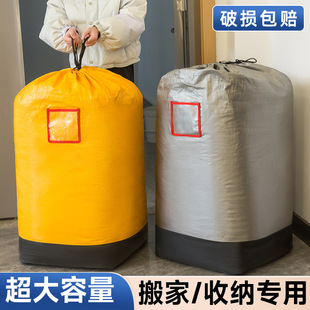Parcel: (156, 59, 293, 273), (14, 66, 146, 268)
